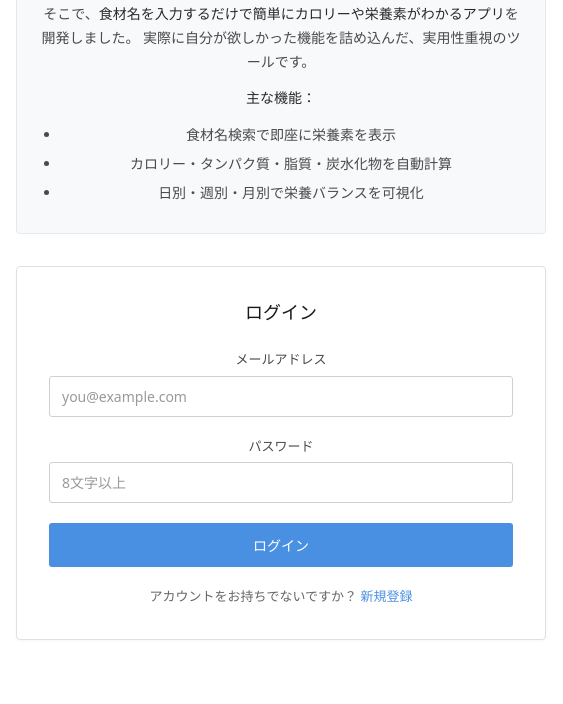
認証フロー › Login › ログイン失敗時にエラーメッセージが表示される
The image size is (563, 704).
(page scrolled)
Type "test@example.com" into the field labelled "メールアドレス".
click(281, 396); type("test@example.com")  # box 49,376 -> 513,417
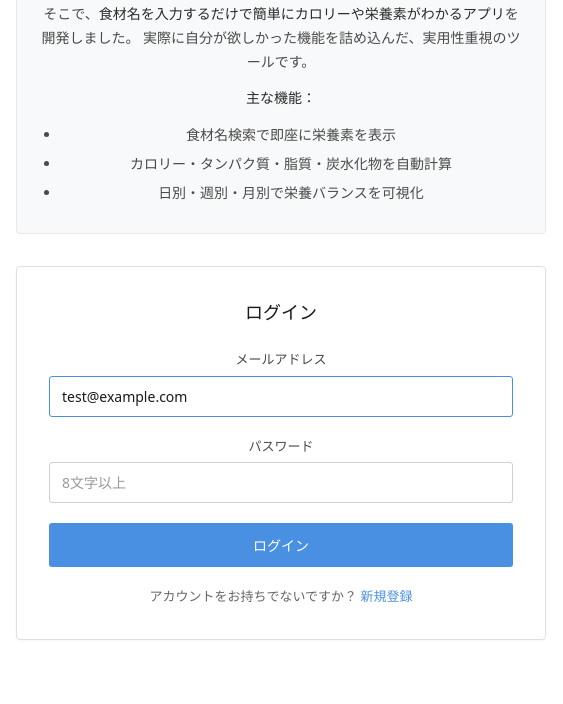
Type "wrongpassword" into the password field labelled "パスワード".
click(281, 483); type("wrongpassword")  # box 49,462 -> 513,503
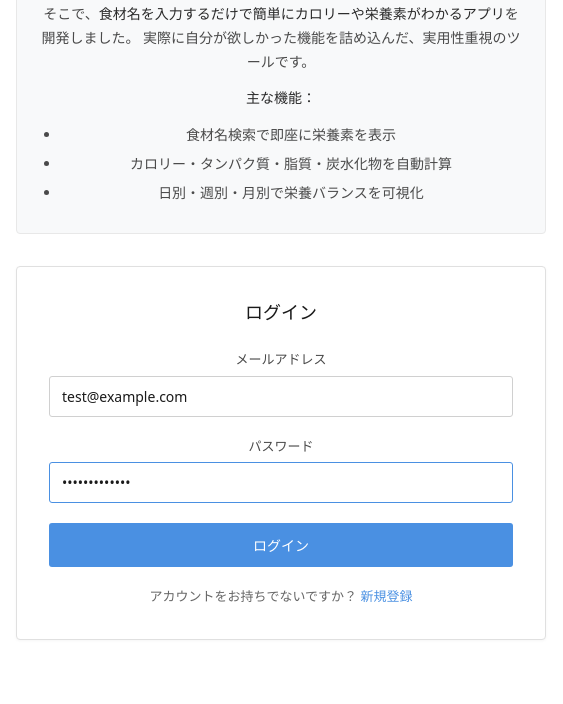
Click the button "ログイン".
click(281, 545)  # box 49,523 -> 513,567
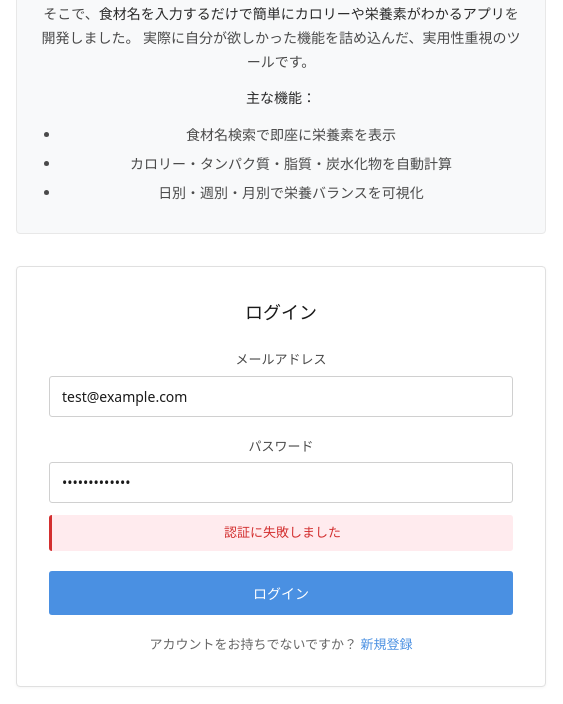
Result: the text "認証に失敗しました" is shown at 49,515 -> 513,551
